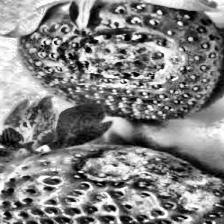Anthracnose Fruit Rot: (61, 145, 224, 224), (58, 26, 189, 88)
